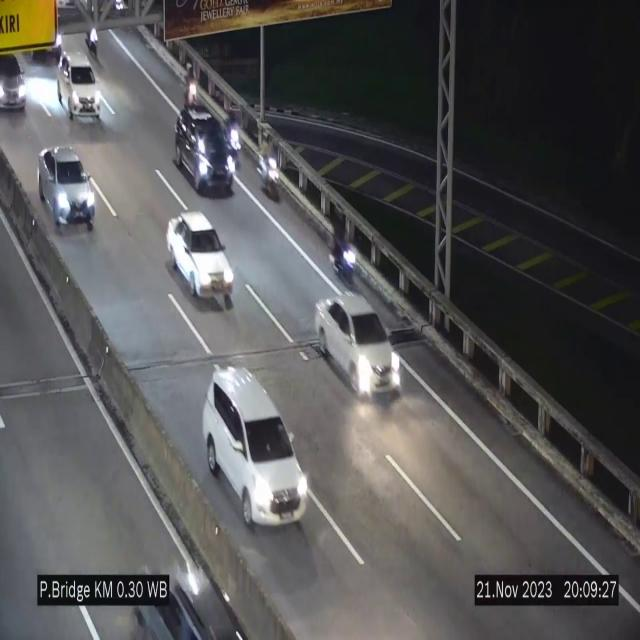Car: (203, 367, 307, 527), (130, 529, 256, 640), (314, 292, 402, 396), (172, 102, 240, 199), (167, 212, 233, 301), (39, 146, 95, 228), (59, 52, 101, 128), (0, 38, 33, 120)
Motorcycle: (327, 209, 359, 288), (222, 96, 244, 162), (264, 141, 285, 207), (181, 62, 199, 123), (80, 12, 100, 61)
